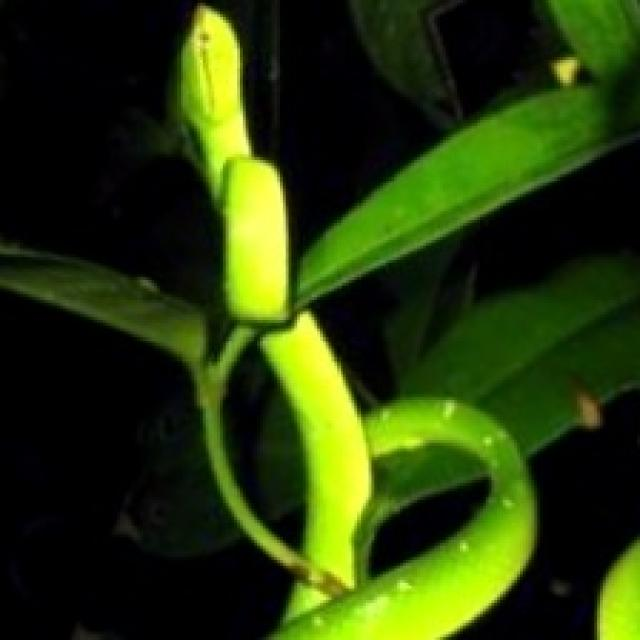north ph temple pitviper: (177, 6, 369, 617)
